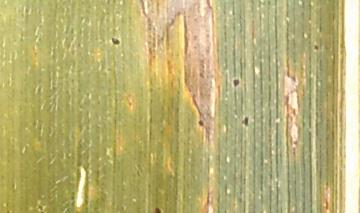tarspot: (109, 36, 122, 46), (195, 119, 206, 128), (232, 77, 241, 88), (151, 205, 162, 213), (244, 116, 250, 127), (313, 43, 320, 51), (239, 119, 246, 124)
